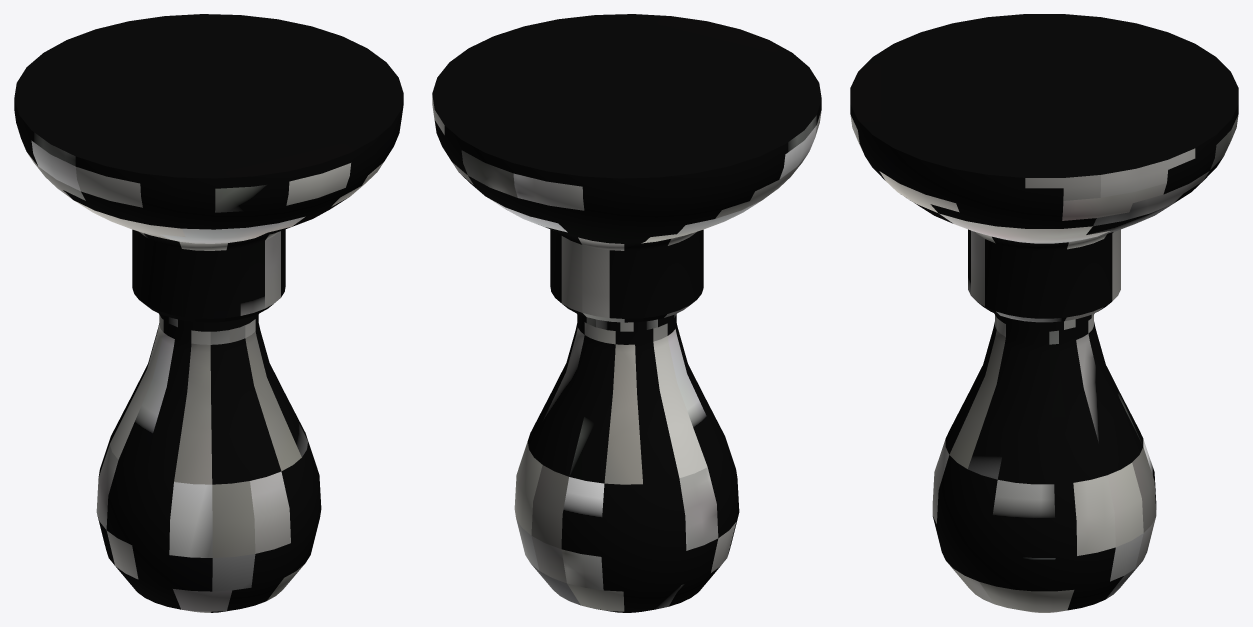
The model's file is ceiling_off.obj.
3 views of the same model, side by side, from view 1: azimuth 30°, elevation 25°; view 2: azimuth 150°, elevation 25°; view 3: azimuth 270°, elevation 25° (orthographic).
Parts seen in each view (by area): view 1: ceiling_porcelain, ceiling_bulb_off, ceiling_shell; view 2: ceiling_porcelain, ceiling_bulb_off, ceiling_shell; view 3: ceiling_porcelain, ceiling_bulb_off, ceiling_shell.
Boxes of the visible parts, x1,y1,x2,y2 form: ceiling_porcelain: (14,14,403,322); ceiling_bulb_off: (96,315,321,612); ceiling_shell: (159,313,258,331); ceiling_porcelain: (432,14,821,322); ceiling_bulb_off: (514,315,739,612); ceiling_shell: (577,313,676,331); ceiling_porcelain: (850,14,1238,322); ceiling_bulb_off: (932,315,1156,612); ceiling_shell: (994,313,1094,331).
Bounding box in the file's own units: 0.1035 × 0.149 × 0.1035.
